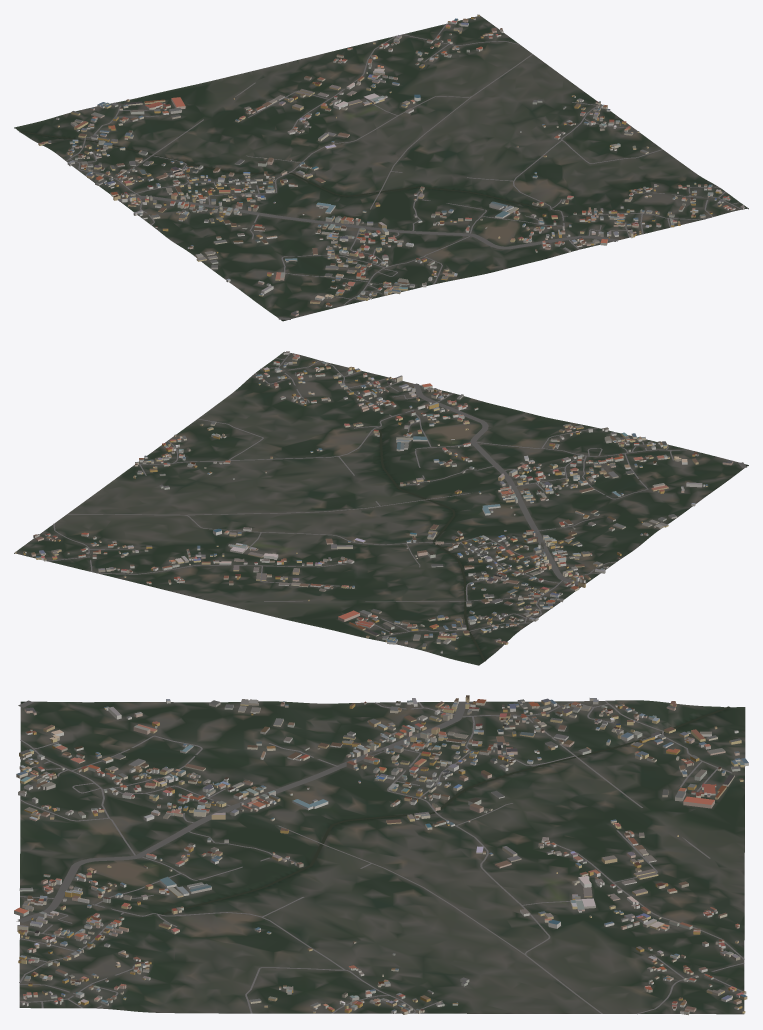
The picture shows the model from 3 angles, top to bottom: view 1: azimuth 30°, elevation 25°; view 2: azimuth 150°, elevation 25°; view 3: azimuth 270°, elevation 25°; orthographic projection. The views are drawn at different scales.
Parts seen in each view (by area): view 1: ground, buildings, roads, water; view 2: ground, buildings, roads, water; view 3: ground, buildings, roads, water.
Boxes of the visible parts, bbox=[...] form: ground: bbox=[14, 15, 748, 321]; buildings: bbox=[38, 14, 744, 316]; roads: bbox=[66, 23, 742, 319]; water: bbox=[19, 131, 548, 320]; ground: bbox=[14, 351, 748, 665]; buildings: bbox=[15, 351, 733, 653]; roads: bbox=[47, 353, 746, 636]; water: bbox=[379, 429, 747, 661]; ground: bbox=[19, 700, 745, 1014]; buildings: bbox=[14, 695, 748, 1015]; roads: bbox=[16, 700, 744, 1014]; water: bbox=[21, 701, 730, 914].
Size of the model in its own units: 1414 by 28.01 by 1422.
